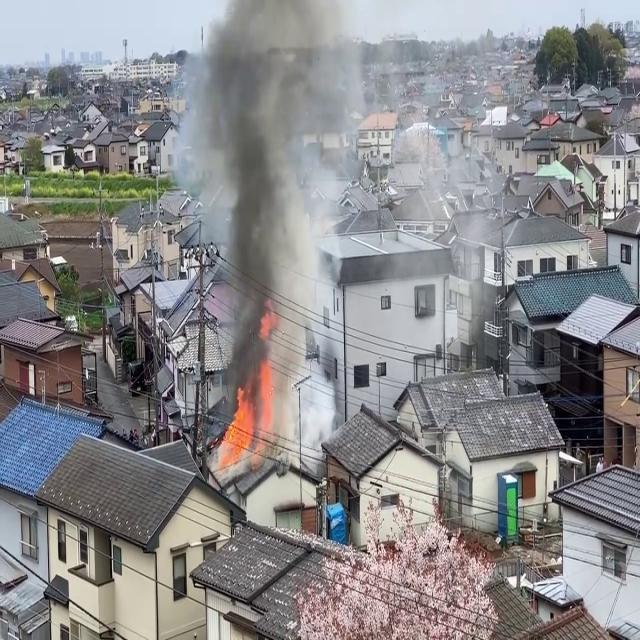Fire: (216, 383, 262, 469)
Smoke: (201, 1, 350, 442)
